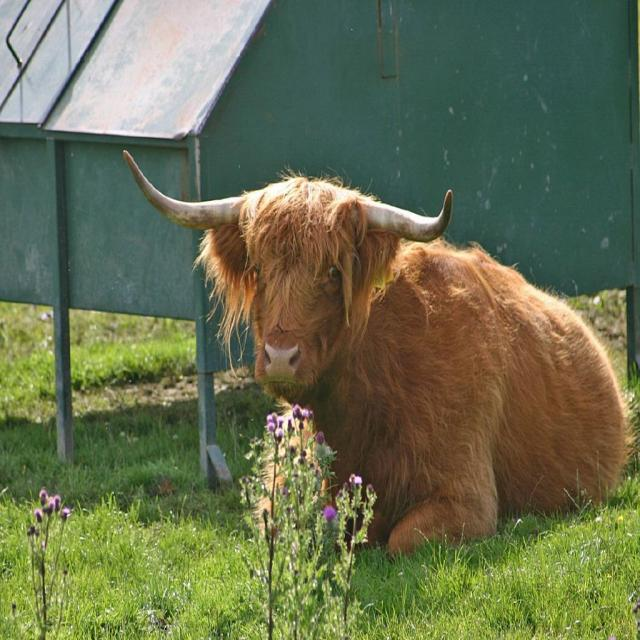Cattle: (123, 150, 640, 558)
